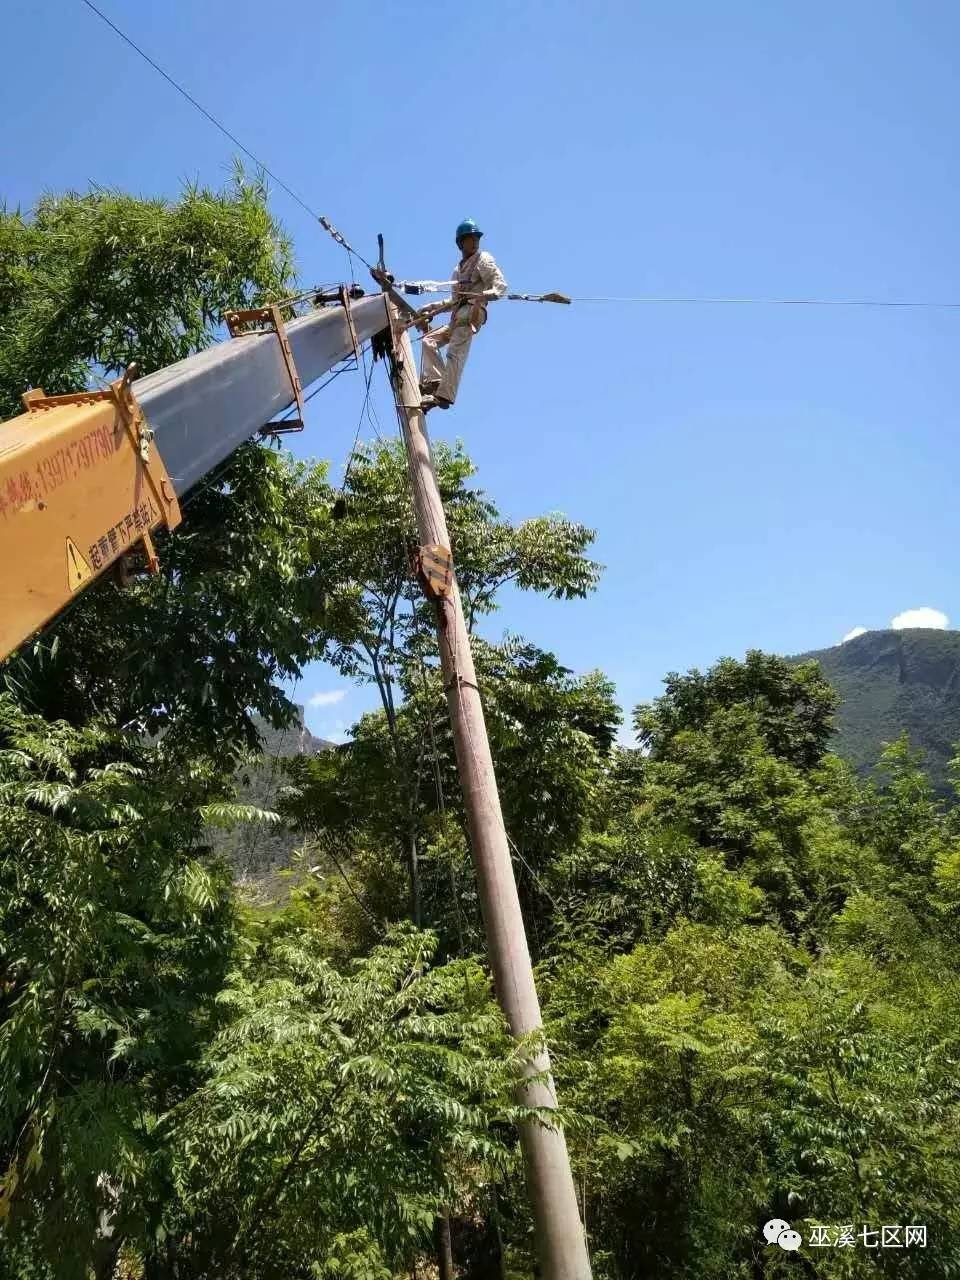blue: (451, 213, 485, 256)
